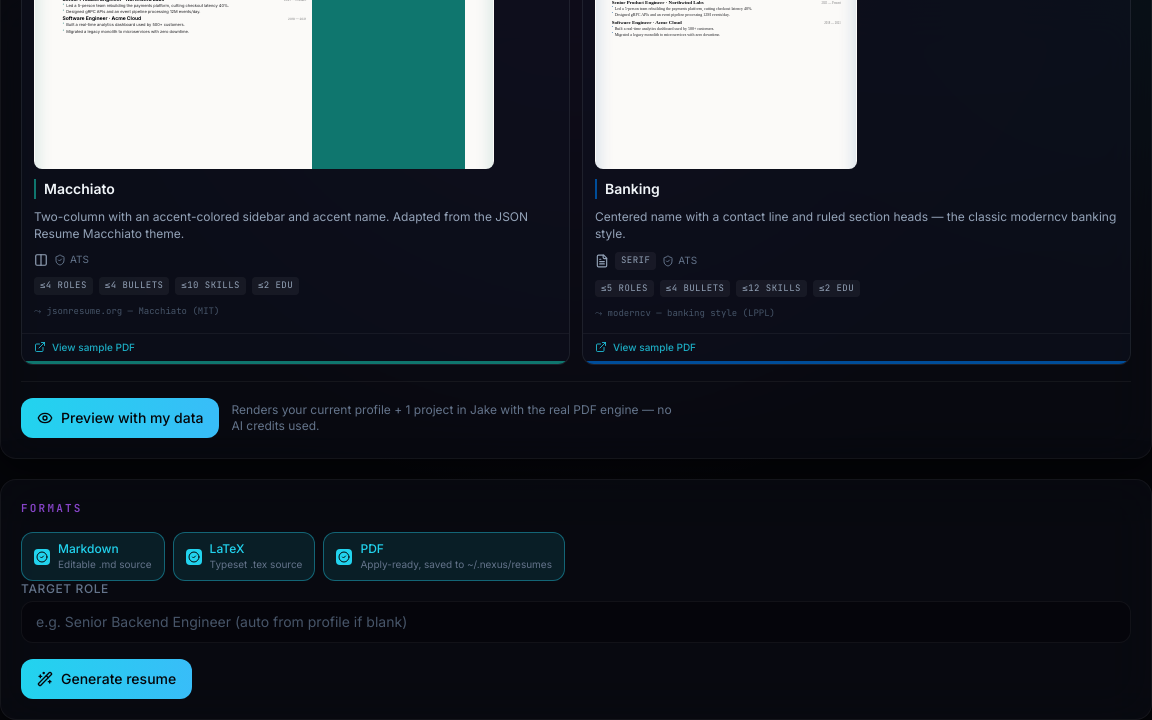
it: ImproveTab › shows the generated template name in the verdict
The width and height of the screenshot is (1152, 720).
(page scrolled)
Click the button "Generate resume" at (107, 679), box [21,659,192,699]
(page scrolled)
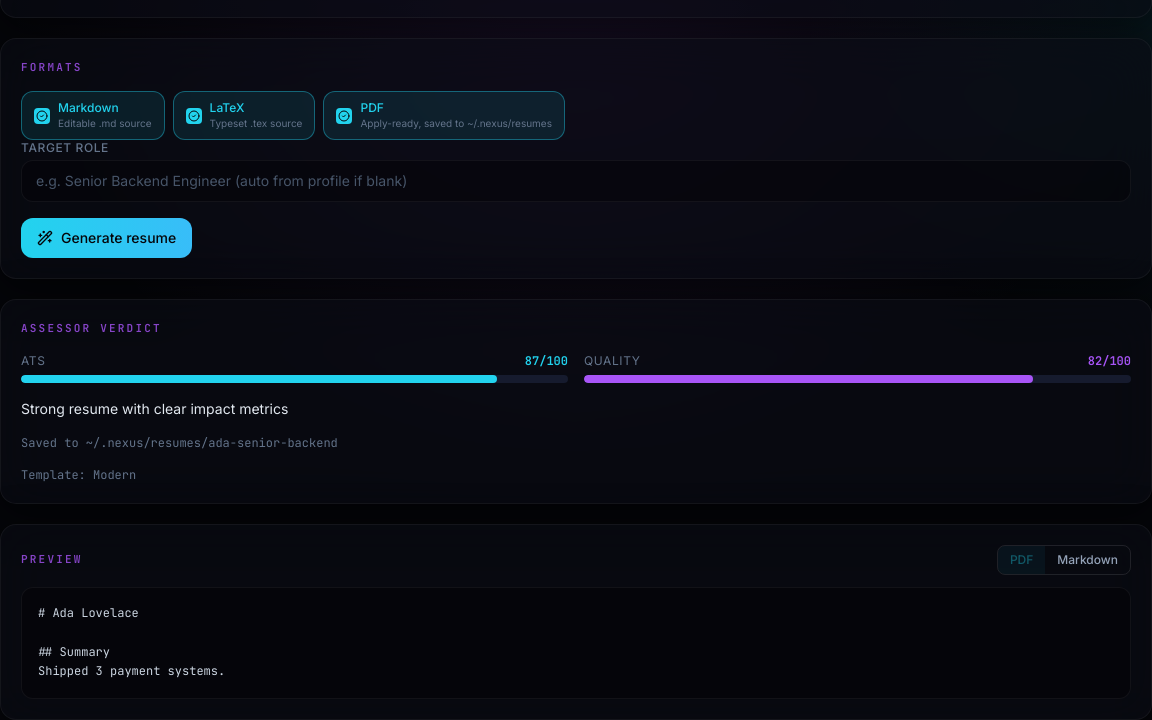
Check: the text "Template: Modern" is shown, box [21,466,136,482]
